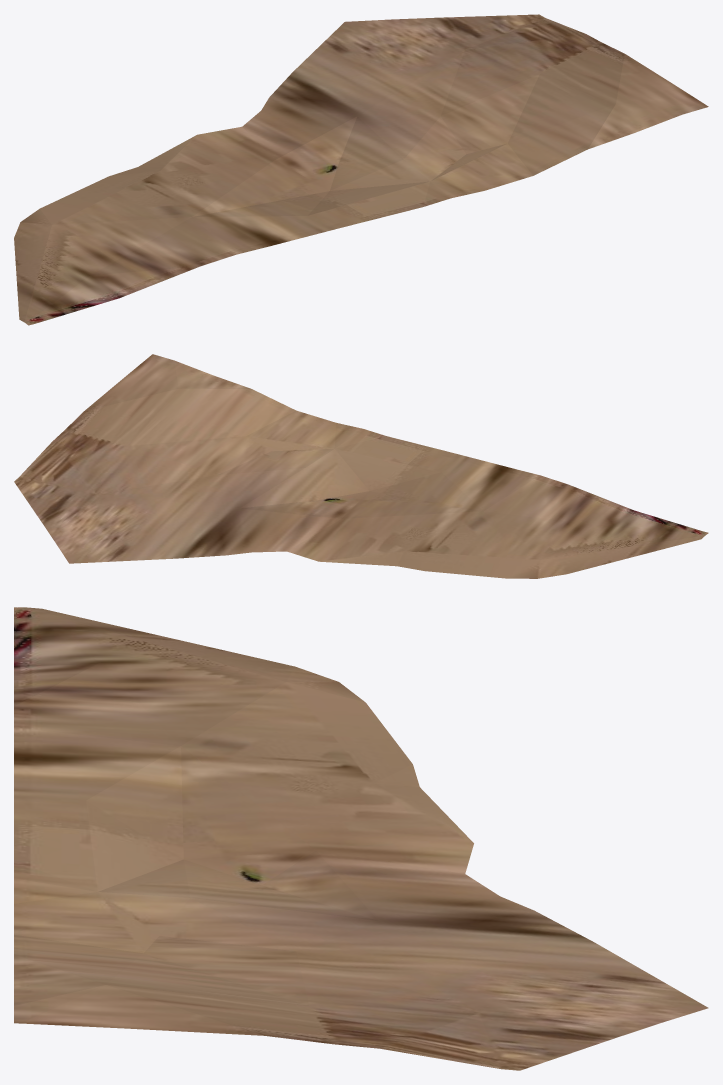
The picture shows the model from 3 angles, top to bottom: view 1: azimuth 30°, elevation 25°; view 2: azimuth 150°, elevation 25°; view 3: azimuth 270°, elevation 25°; orthographic projection. The views are drawn at different scales.
Size of the model in its own units: 2.09 by 0.1576 by 1.24.
Materials: 1 (1 with a texture image).
